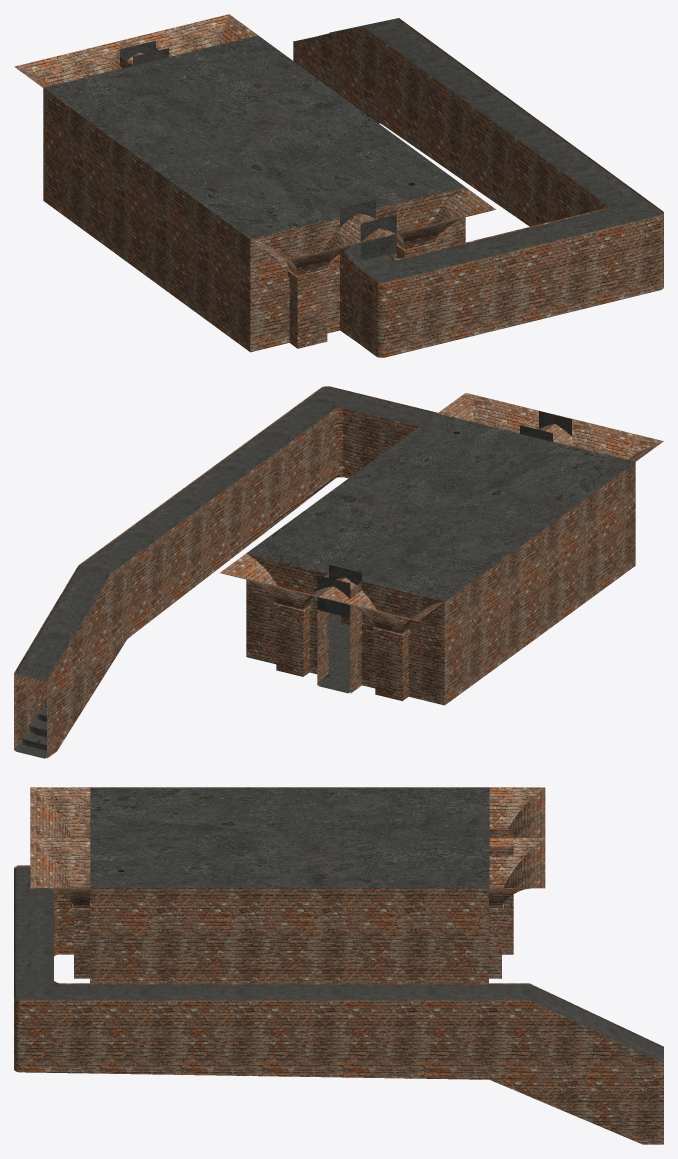
File: room1.fbx
3 renders of one model, top to bottom at view 1: azimuth 30°, elevation 25°; view 2: azimuth 150°, elevation 25°; view 3: azimuth 270°, elevation 25°, orthographic. The views are drawn at different scales.
Visible parts, largest first — view 1: ceiling2, outerwall, innerwall, pillar6, pillar4, pillar5, pillar7, pCube2, pCube1; view 2: ceiling2, innerwall, outerwall, pillar5, pillar4, floor1, pillar6, pillar7, pCube1, pCube2; view 3: ceiling2, outerwall, innerwall, pillar7, pillar5, pillar6, pillar4.
Part boxes in pixels (x1=…): ceiling2: x1=43, y1=18, x2=663, y2=284; outerwall: x1=43, y1=18, x2=663, y2=357; innerwall: x1=156, y1=27, x2=607, y2=260; pillar6: x1=250, y1=213, x2=388, y2=348; pillar4: x1=14, y1=40, x2=140, y2=87; pillar5: x1=122, y1=14, x2=257, y2=56; pillar7: x1=358, y1=187, x2=495, y2=258; pCube2: x1=340, y1=199, x2=396, y2=260; pCube1: x1=120, y1=40, x2=168, y2=65; ceiling2: x1=14, y1=387, x2=634, y2=681; innerwall: x1=47, y1=408, x2=519, y2=758; outerwall: x1=14, y1=386, x2=635, y2=750; pillar5: x1=220, y1=553, x2=344, y2=676; pillar4: x1=319, y1=577, x2=443, y2=700; floor1: x1=14, y1=475, x2=350, y2=758; pillar6: x1=545, y1=417, x2=663, y2=461; pillar7: x1=437, y1=393, x2=564, y2=433; pCube1: x1=317, y1=565, x2=361, y2=617; pCube2: x1=520, y1=411, x2=571, y2=441; ceiling2: x1=14, y1=787, x2=663, y2=1063; outerwall: x1=14, y1=829, x2=663, y2=1144; innerwall: x1=54, y1=846, x2=654, y2=1042; pillar7: x1=30, y1=838, x2=90, y2=978; pillar5: x1=489, y1=838, x2=545, y2=978; pillar6: x1=30, y1=787, x2=90, y2=837; pillar4: x1=489, y1=787, x2=545, y2=837.
Bounding box in the file's own units: 10.51 × 5.27 × 16.28.
